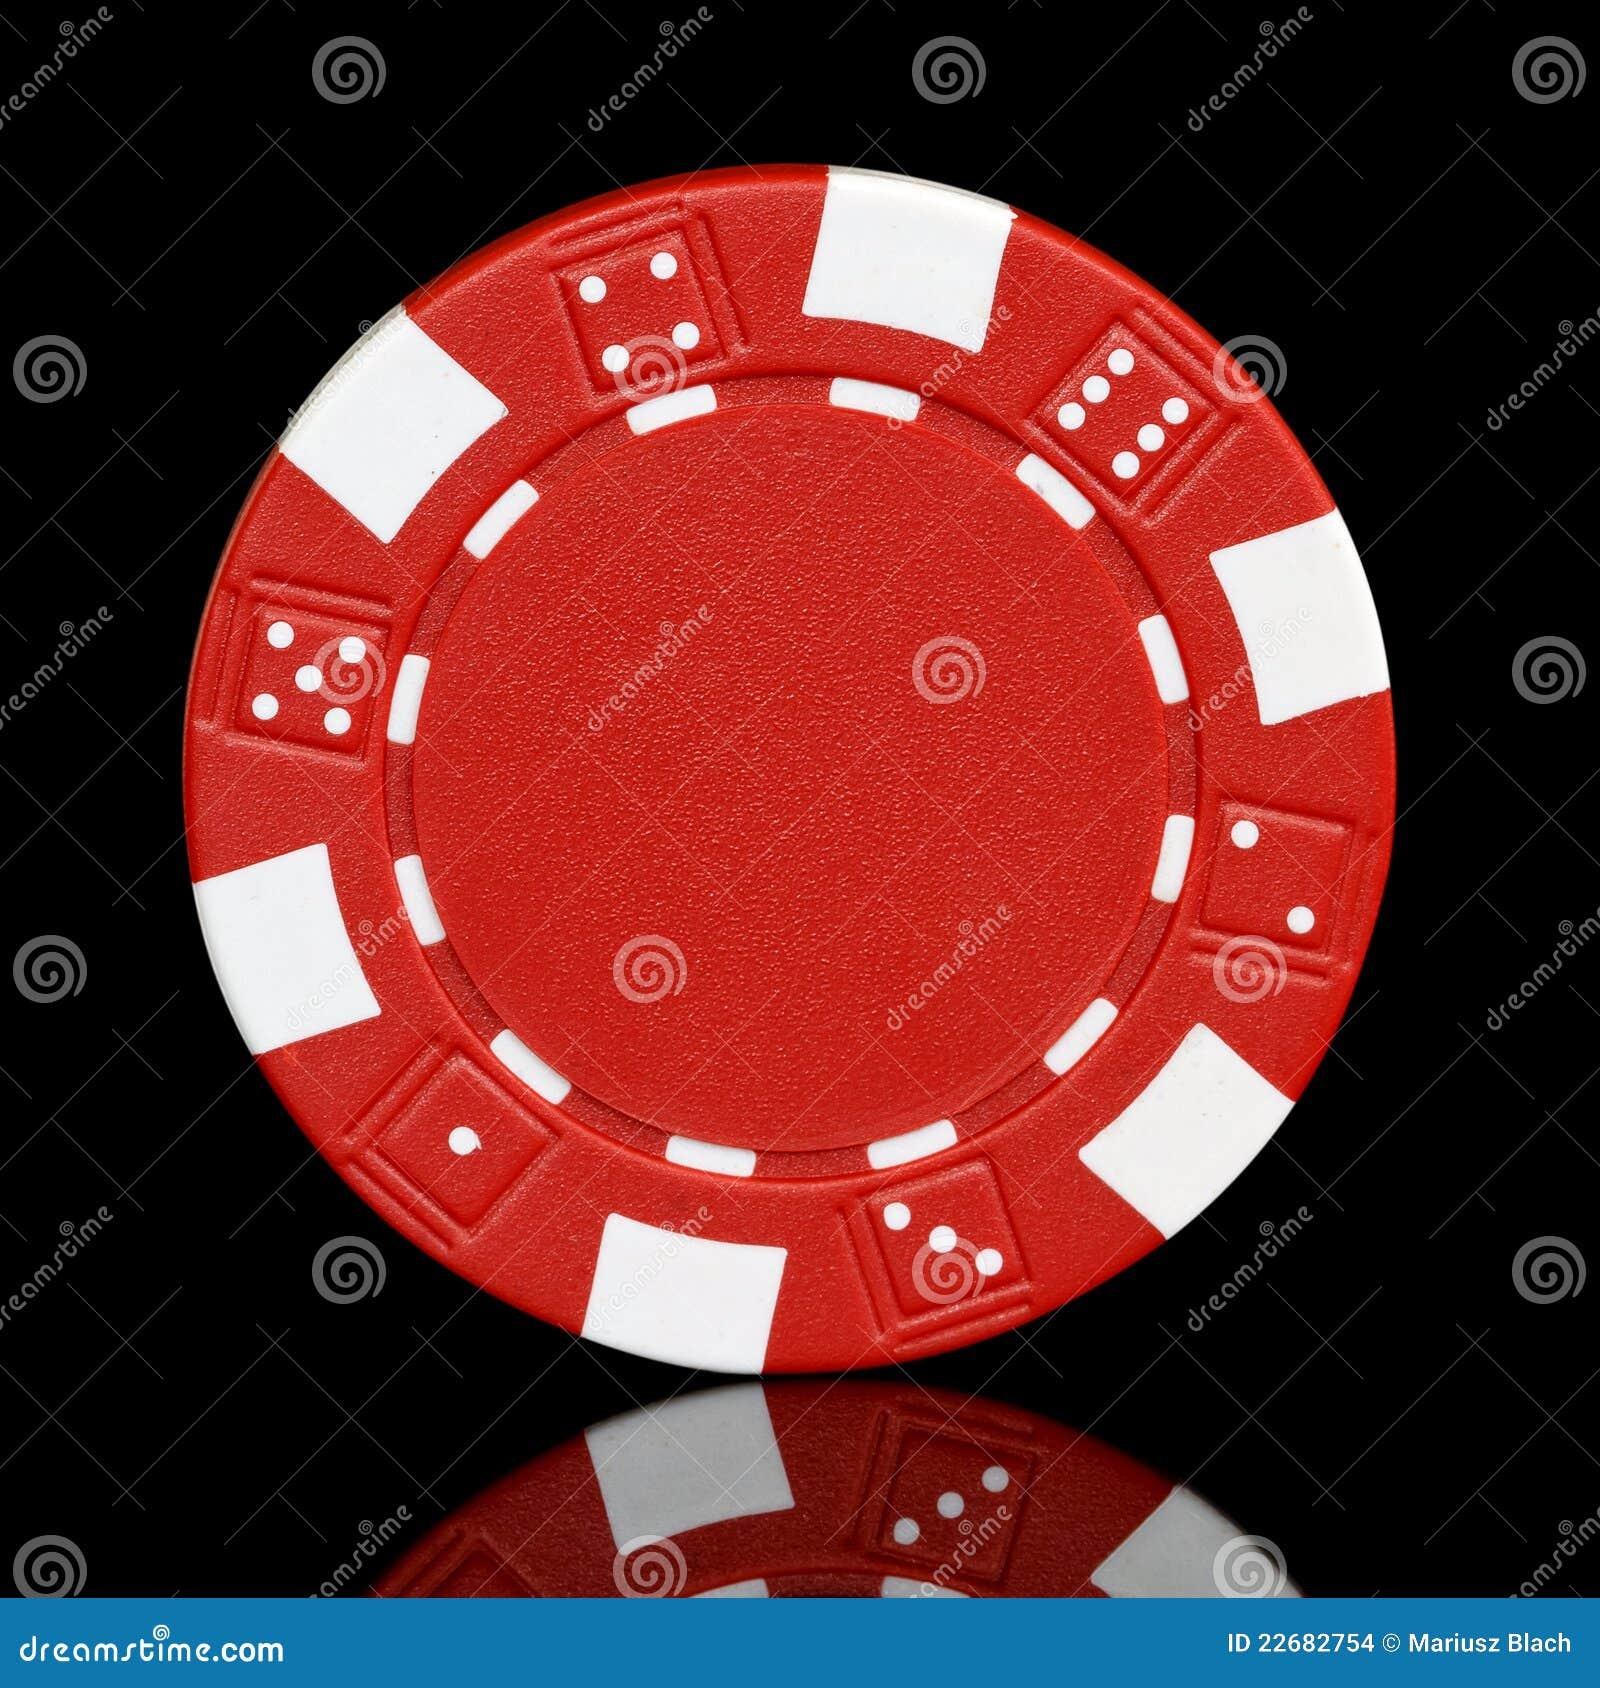chip-red: (185, 168, 1394, 1371)
